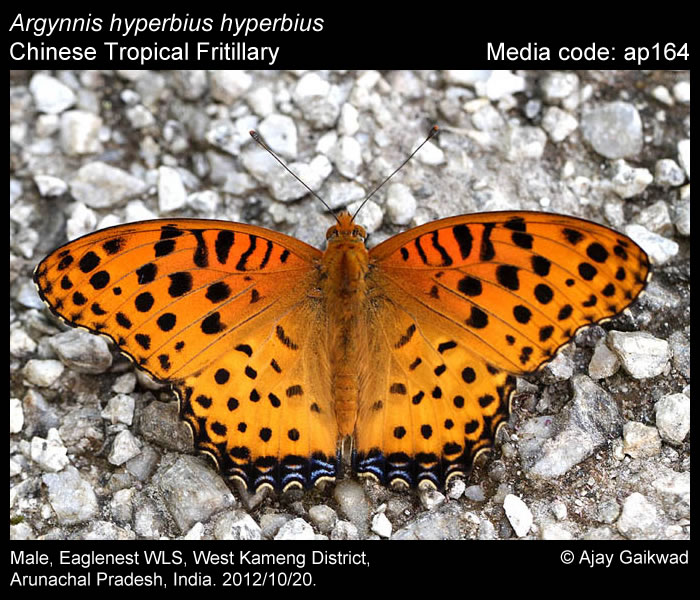Argyreus hyperbius: (30, 119, 651, 509)
butterfly: (32, 121, 653, 511)
